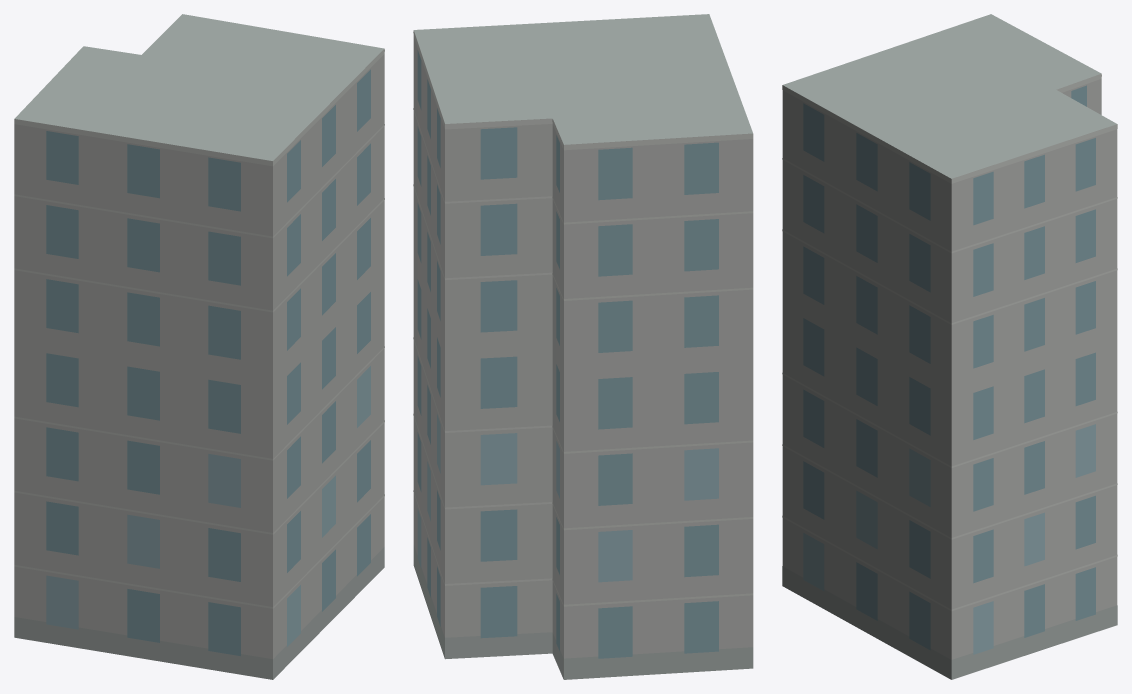
Rendered from survey-upis-33019387.glb.
3 views of the same model, side by side, from view 1: azimuth 30°, elevation 25°; view 2: azimuth 150°, elevation 25°; view 3: azimuth 270°, elevation 25° (orthographic). The views are drawn at different scales.
Parts seen in each view (by area): view 1: survey-upis-33019387.tmp; view 2: survey-upis-33019387.tmp; view 3: survey-upis-33019387.tmp.
Part boxes in pixels (<box>): survey-upis-33019387.tmp: <box>14,14,384,679</box>; survey-upis-33019387.tmp: <box>413,14,753,679</box>; survey-upis-33019387.tmp: <box>782,14,1117,679</box>.
Bounding box in the file's own units: 17.03 × 24.1 × 14.62.
